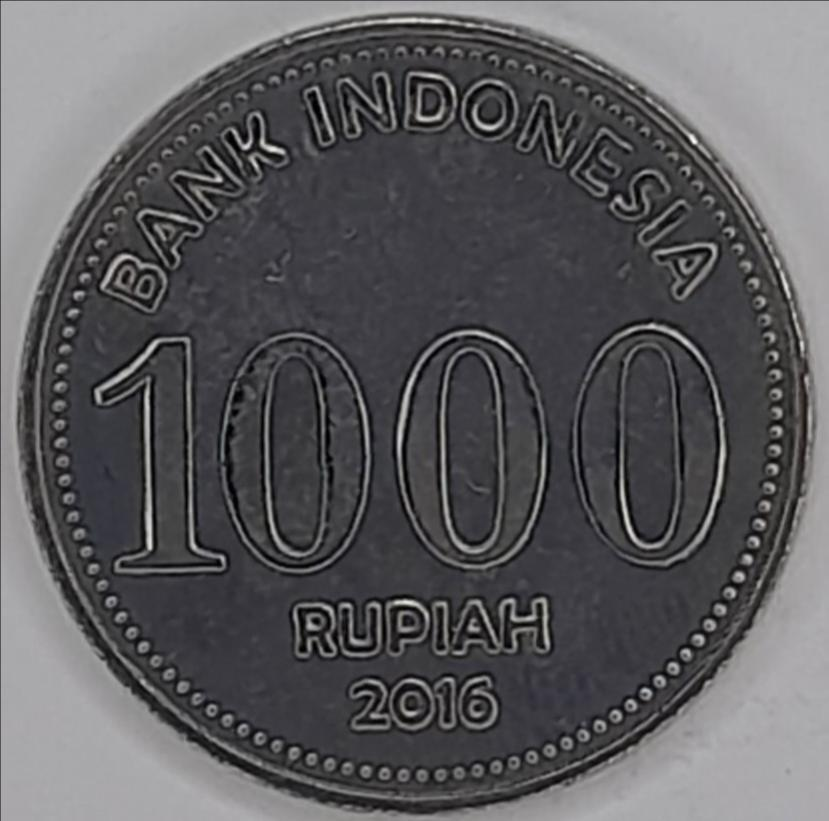coin_1000_e2016: (14, 16, 818, 821)
